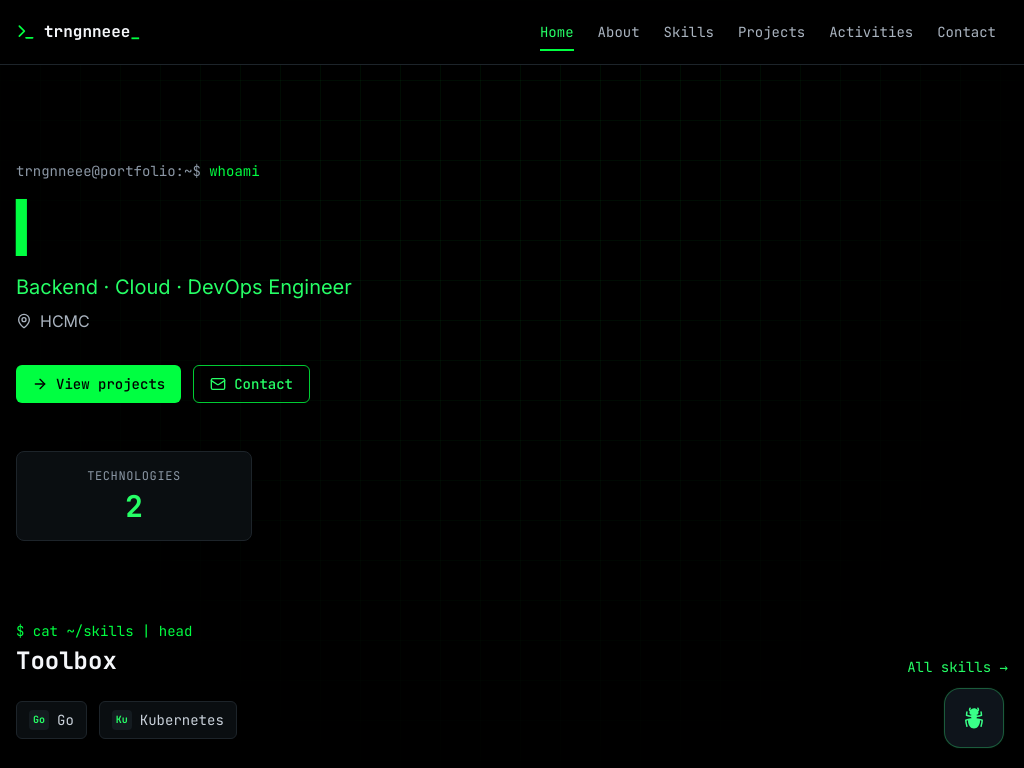
it: Spidey widget › chat 503 unavailable mid-session → switches to the offline state
Click the button named "Ask Spidey" at [974, 718], box left=944, top=688, right=1004, bottom=748
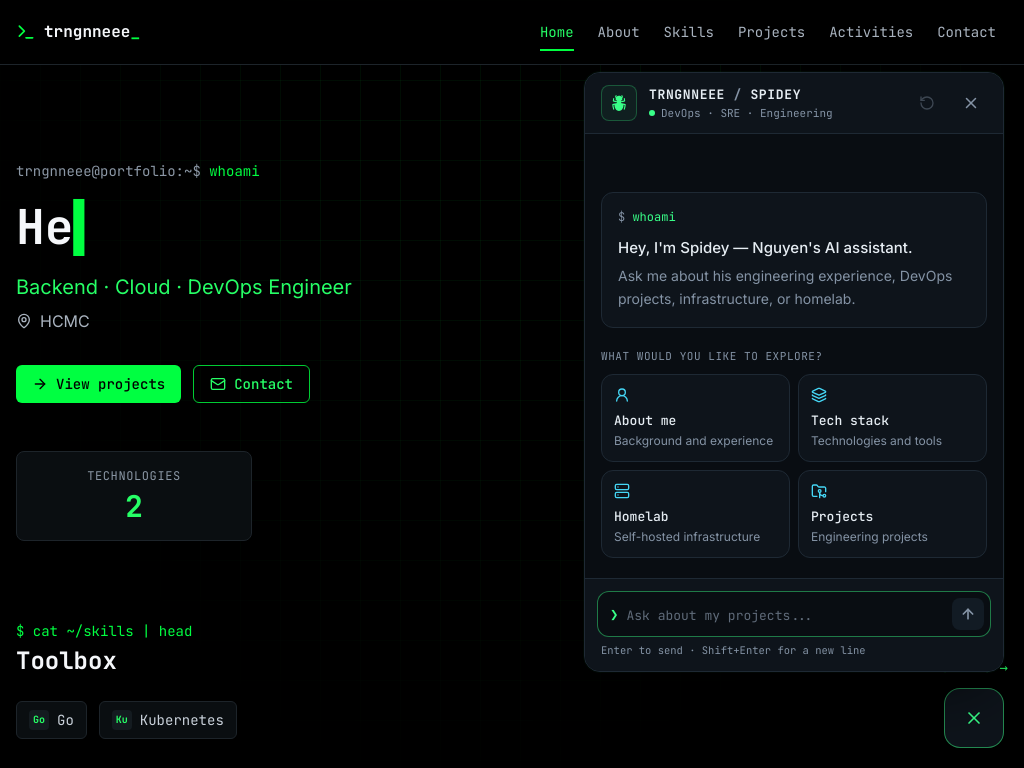
Type "Hi" into the text box named "Message Spidey" at [785, 616], box left=626, top=601, right=944, bottom=630
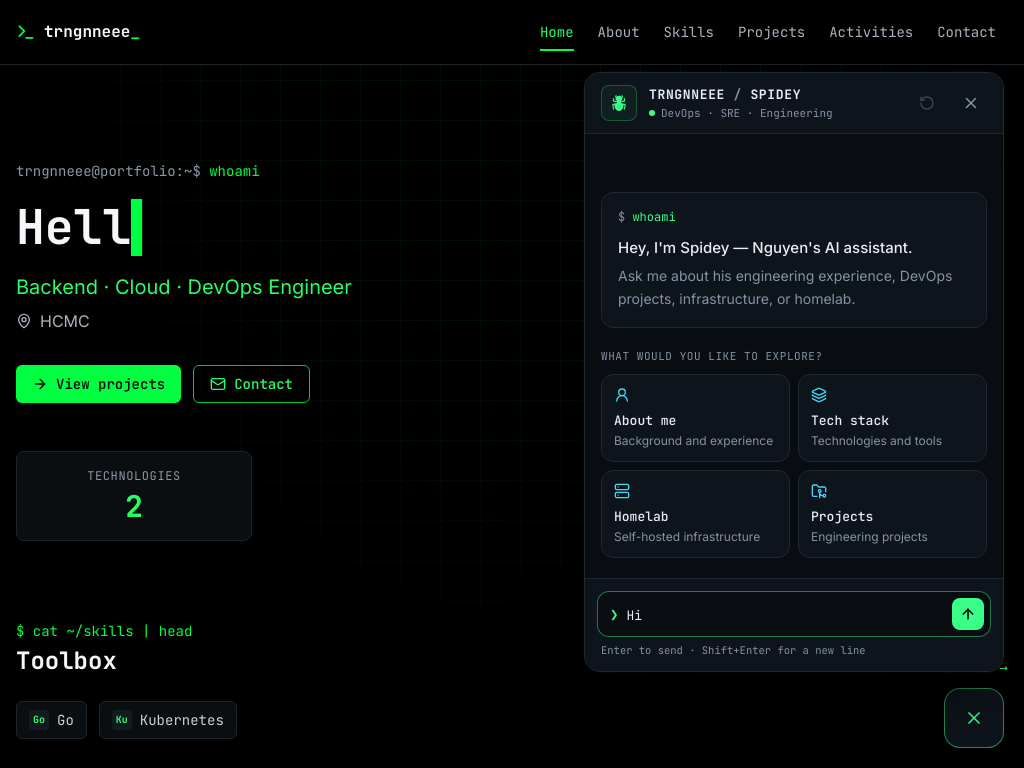
Now the button named "Send message" is enabled, box left=952, top=598, right=984, bottom=630
Press Enter
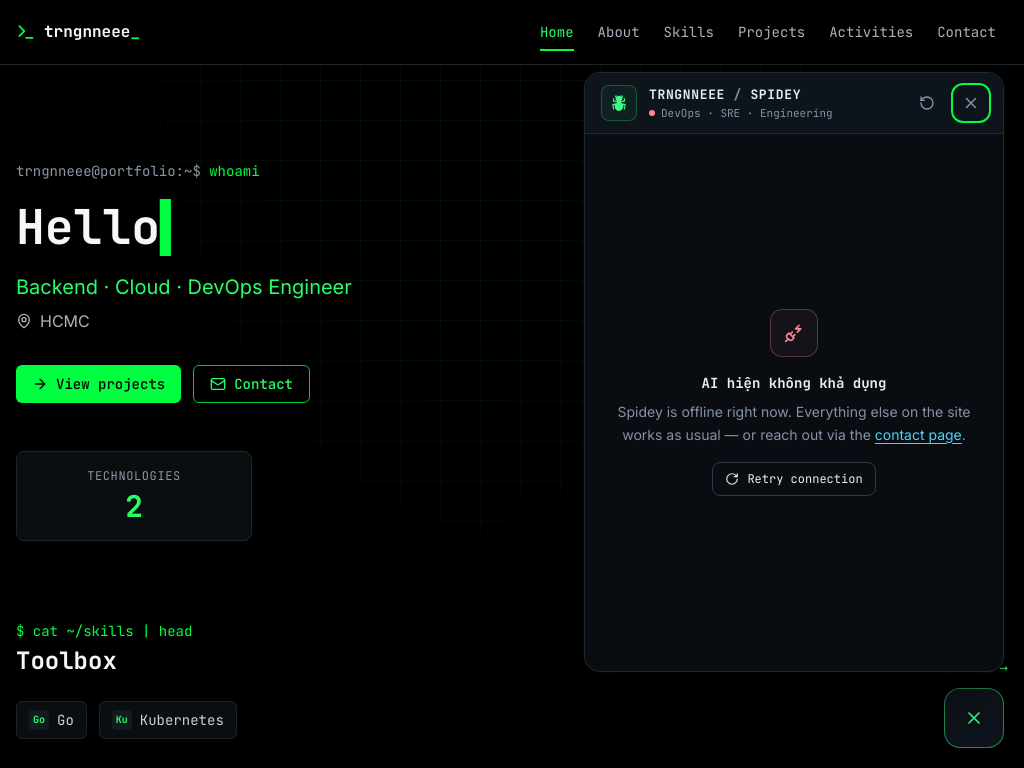
Now the text "AI hiện không khả dụng" is shown, box left=702, top=374, right=886, bottom=392
